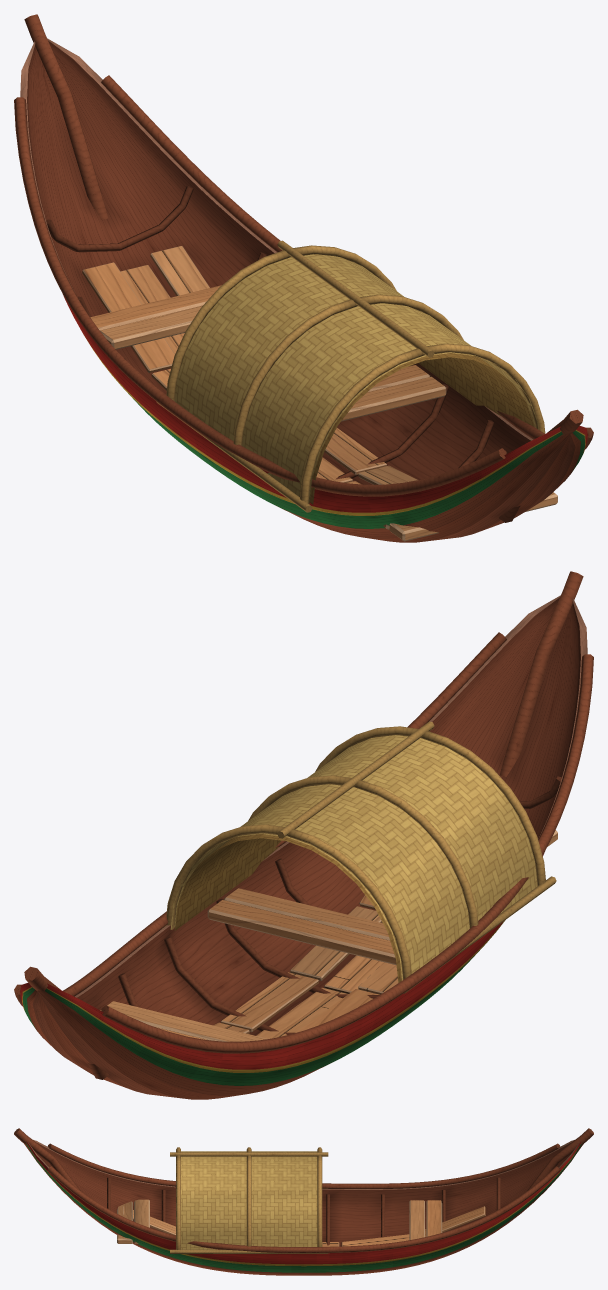
File: nouka.glb
The picture shows the model from 3 angles, top to bottom: view 1: azimuth 30°, elevation 25°; view 2: azimuth 150°, elevation 25°; view 3: azimuth 270°, elevation 25°; orthographic projection. The views are drawn at different scales.
Visible parts, largest first — view 1: hull, chhoi, benches; view 2: hull, chhoi, benches; view 3: hull, chhoi, benches.
Part boxes in pixels (x1,y1,x2,y2): hull: (14,14,593,542); chhoi: (156,240,545,512); benches: (90,285,557,541); hull: (14,571,593,1099); chhoi: (162,721,556,993); benches: (100,830,557,1041); hull: (14,1128,593,1275); chhoi: (170,1147,328,1253); benches: (117,1199,442,1243).
Size of the model in its own units: 1.29 by 1.24 by 4.76.
Materials: 4 (4 with a texture image).
